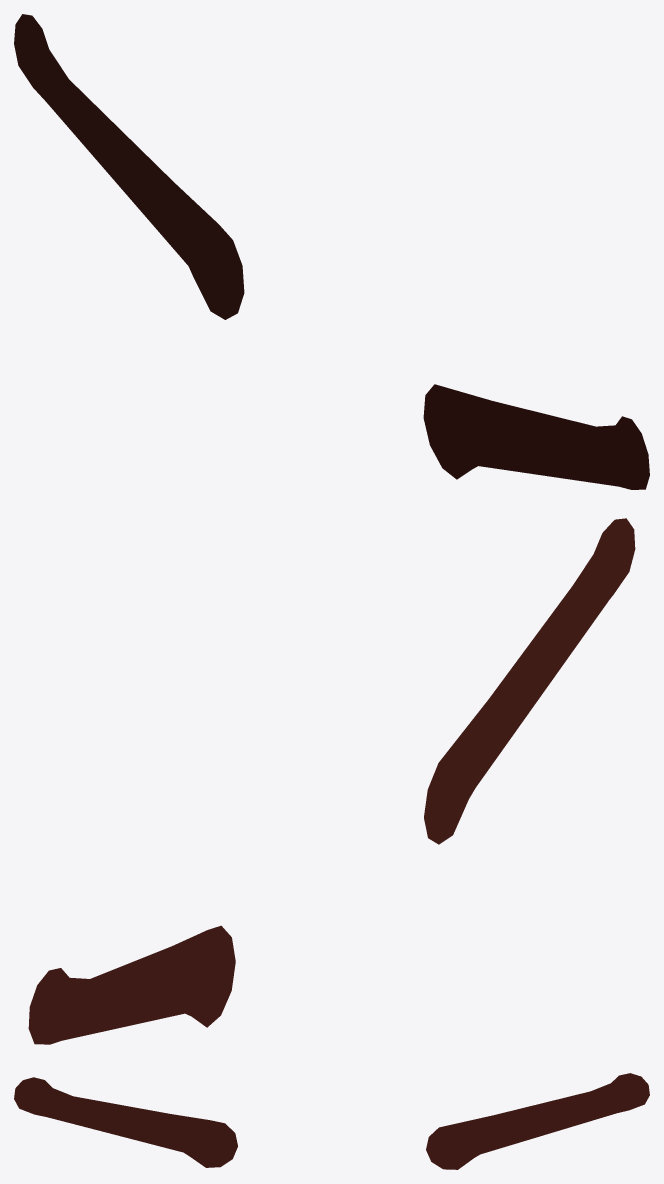
File: DavidEyes.glb
The picture shows the model from 3 angles, top to bottom: view 1: azimuth 30°, elevation 25°; view 2: azimuth 150°, elevation 25°; view 3: azimuth 270°, elevation 25°; orthographic projection. The views are drawn at different scales.
Parts seen in each view (by area): view 1: DavidEyes; view 2: DavidEyes; view 3: DavidEyes.
Boxes of the visible parts, x1,y1,x2,y2 form: DavidEyes: (14, 14, 649, 489); DavidEyes: (28, 518, 635, 1044); DavidEyes: (14, 1073, 649, 1169).
Bounding box in the file's own units: 0.0941 × 0.5055 × 3.01.
